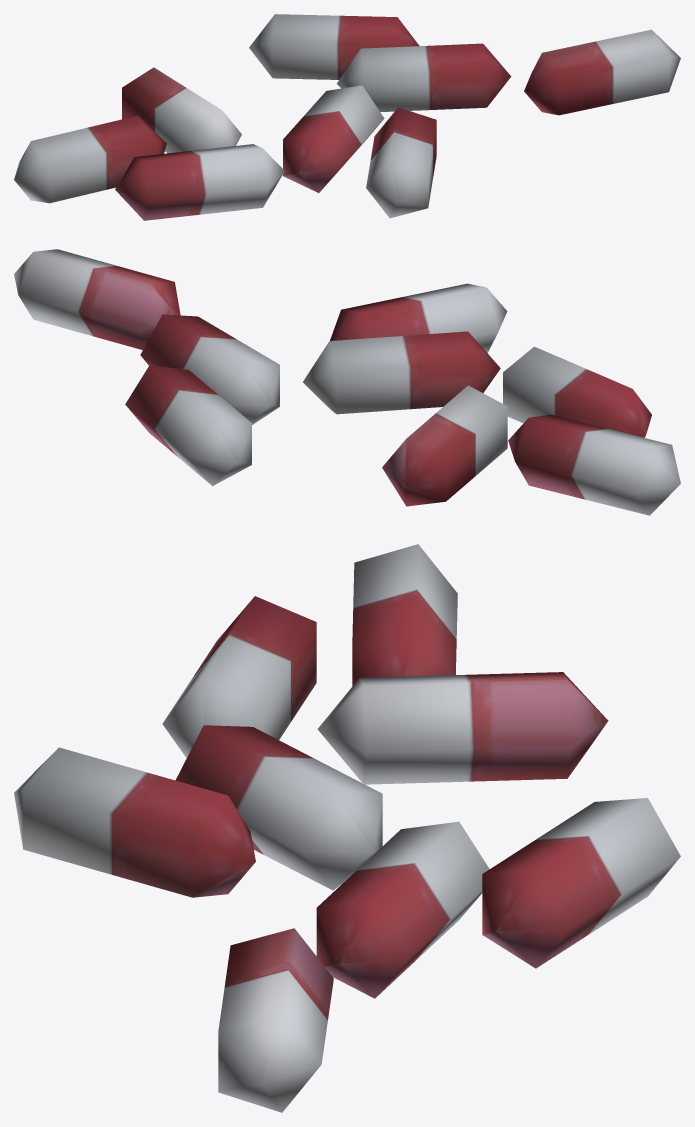
Rendered from Pill_LongBundle.fbx.
3 renders of one model, top to bottom at view 1: azimuth 30°, elevation 25°; view 2: azimuth 150°, elevation 25°; view 3: azimuth 270°, elevation 25°, orthographic. The views are drawn at different scales.
Visible parts, largest first — view 1: PillsBundle.001; view 2: PillsBundle.001; view 3: PillsBundle.001.
Boxes of the visible parts, x1=… form: PillsBundle.001: x1=14, y1=14, x2=680, y2=220; PillsBundle.001: x1=14, y1=249, x2=680, y2=515; PillsBundle.001: x1=14, y1=544, x2=680, y2=1112.
Bounding box in the file's own units: 316 × 28.66 × 176.
